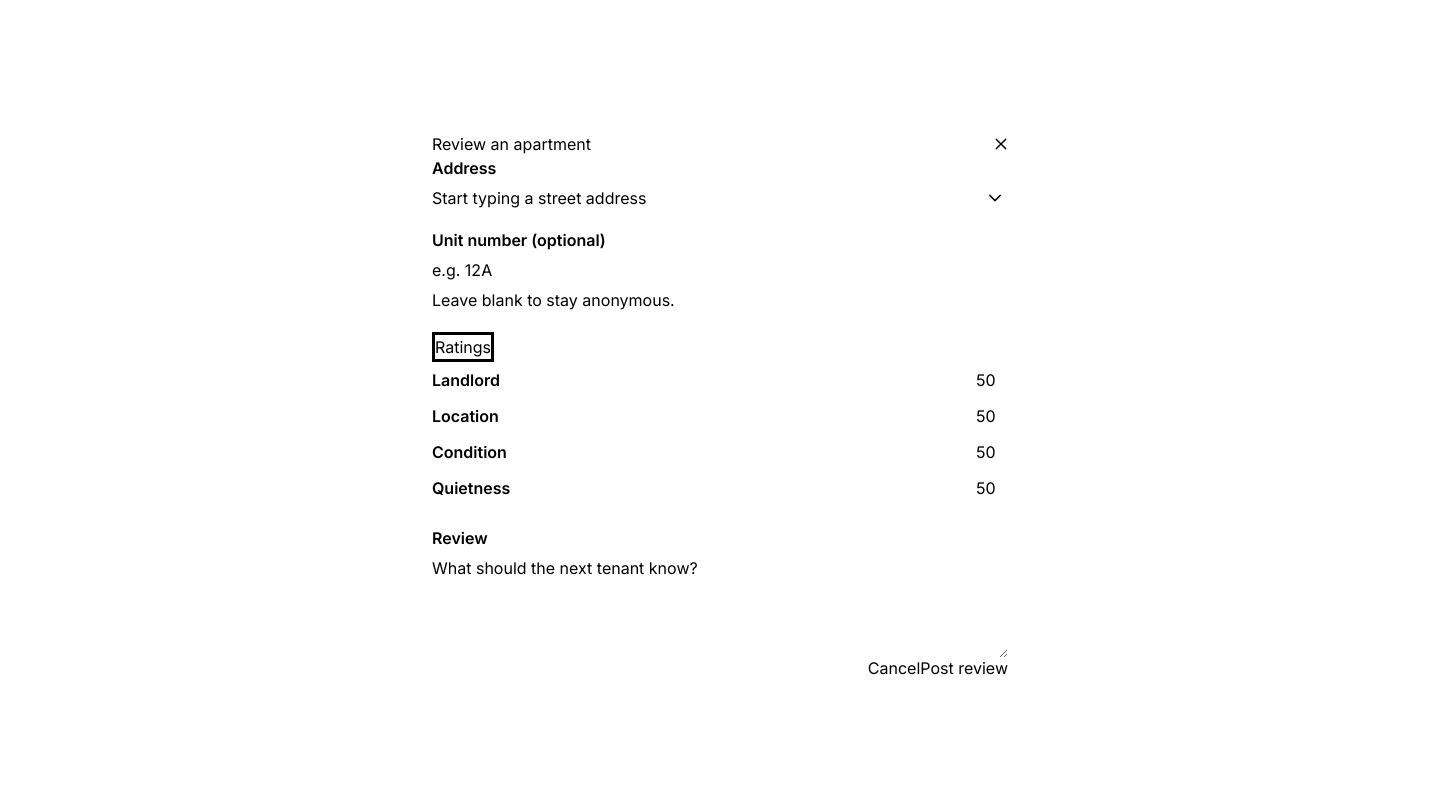
CreateReviewModal sign-in gate › asks a signed-out visitor to sign in and keeps what they typed
The width and height of the screenshot is (1440, 810).
Type "Great light, slow repairs." into the text box with id "review" at coordinates (720, 608), box [432, 558, 1008, 658]
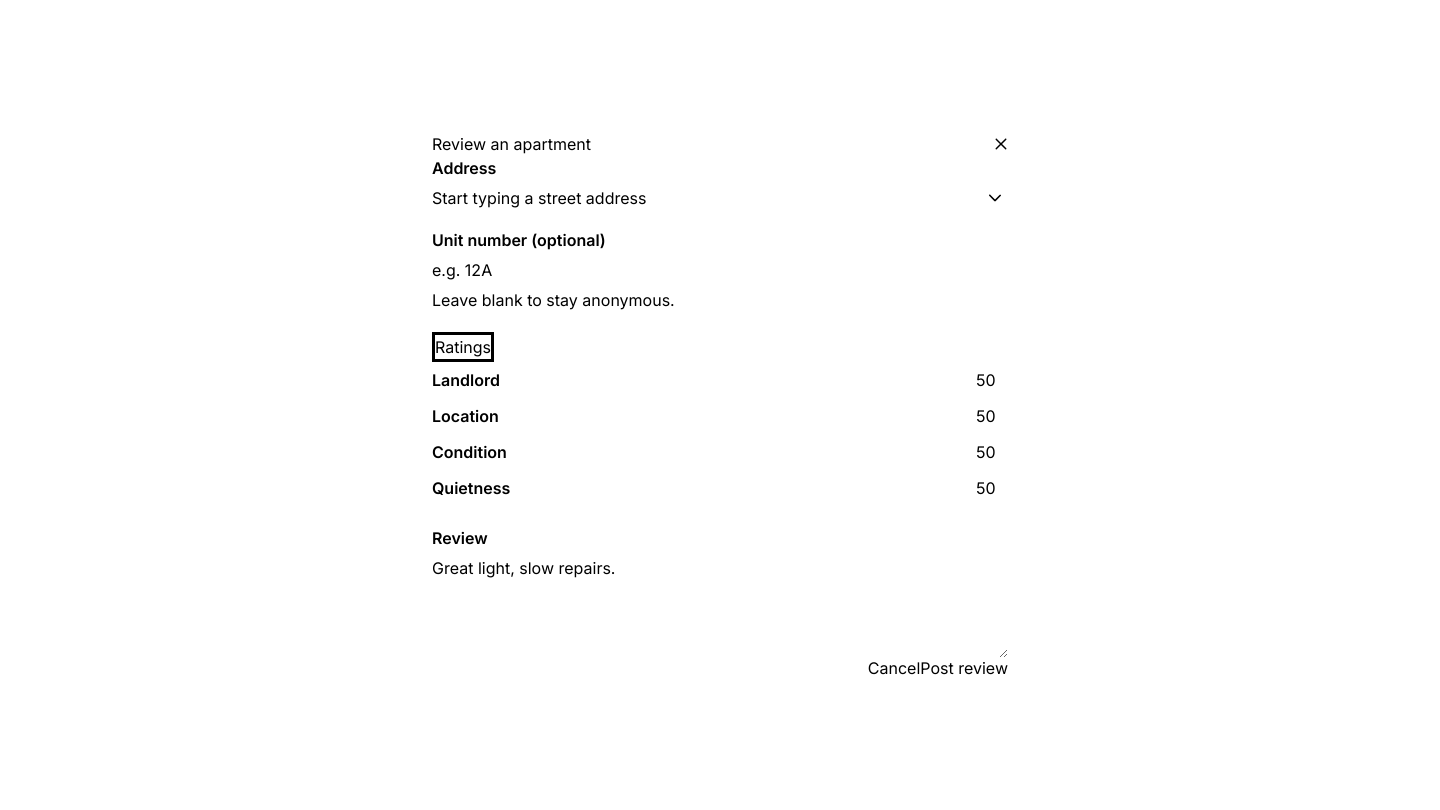
Click the button "Post review" at coordinates (964, 668), box [920, 658, 1008, 678]
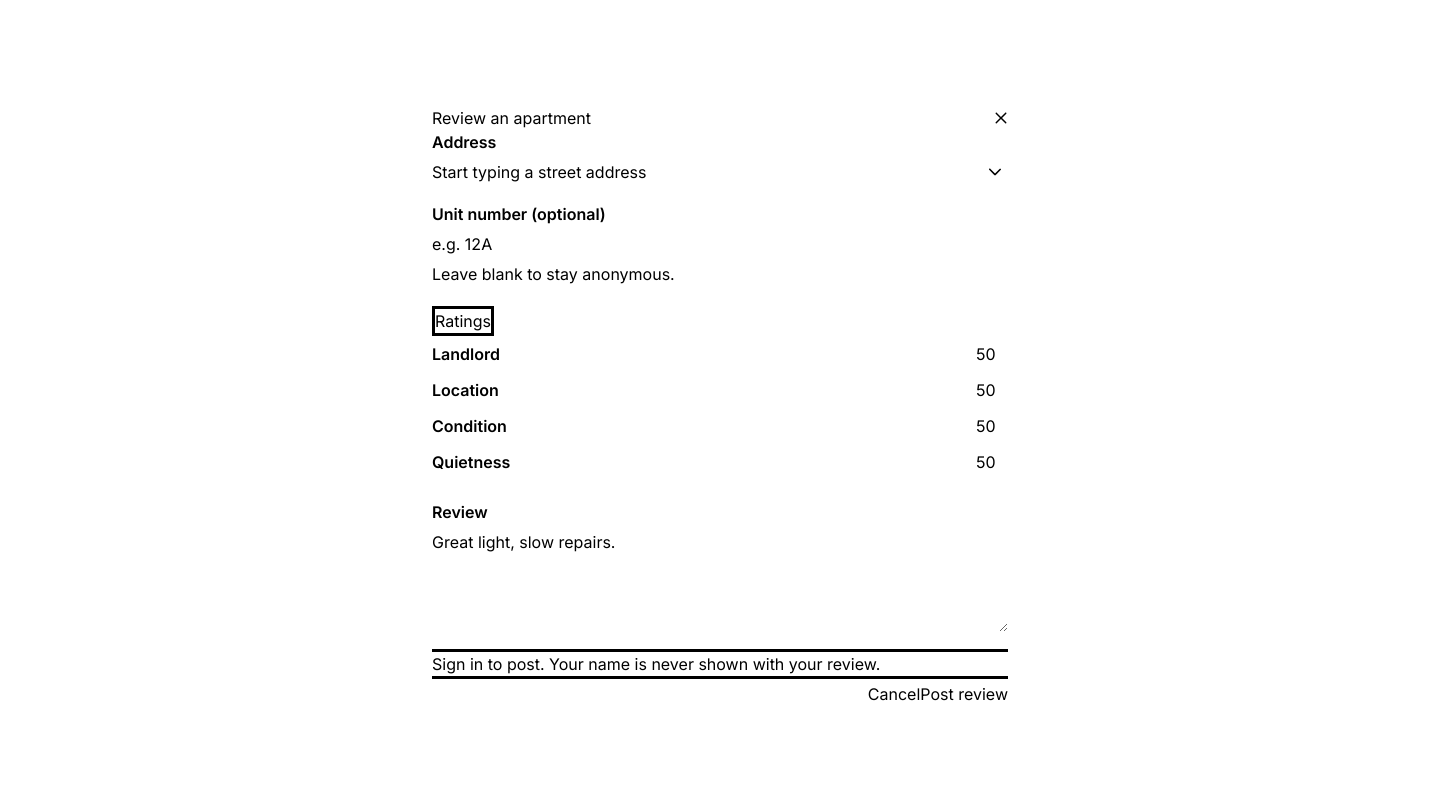
Expected: the text "Sign in to post. Your name is never shown with your review." is shown, [432, 652, 880, 676]
